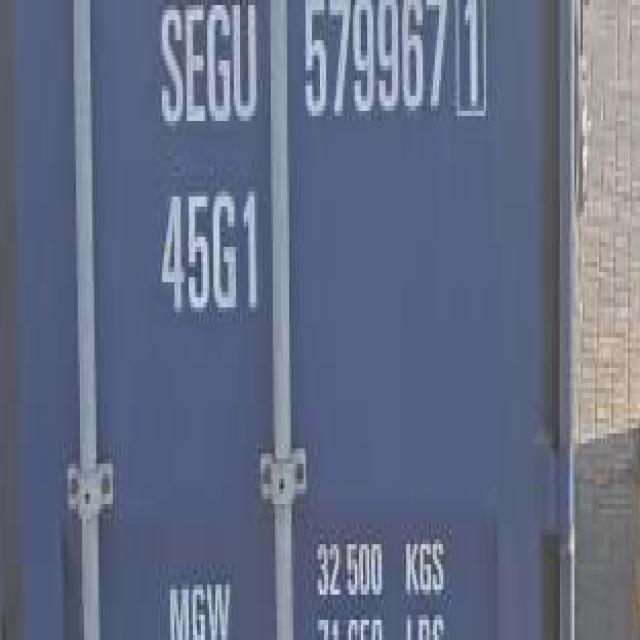dv: (451, 0, 496, 161)
owner: (141, 0, 266, 152)
serial: (294, 0, 451, 172)
size: (144, 170, 264, 333)
